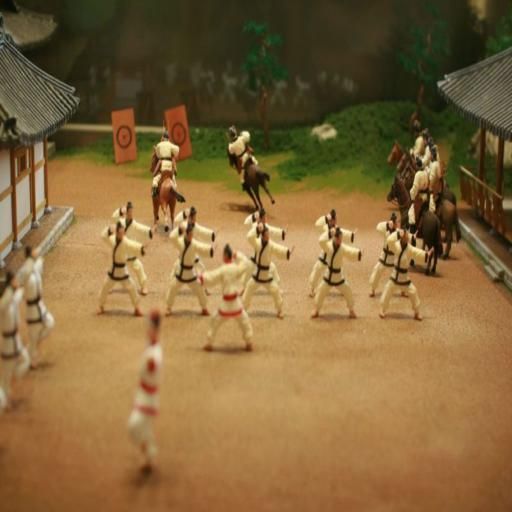horse: (386, 137, 466, 276), (226, 142, 276, 213), (150, 144, 188, 233)
